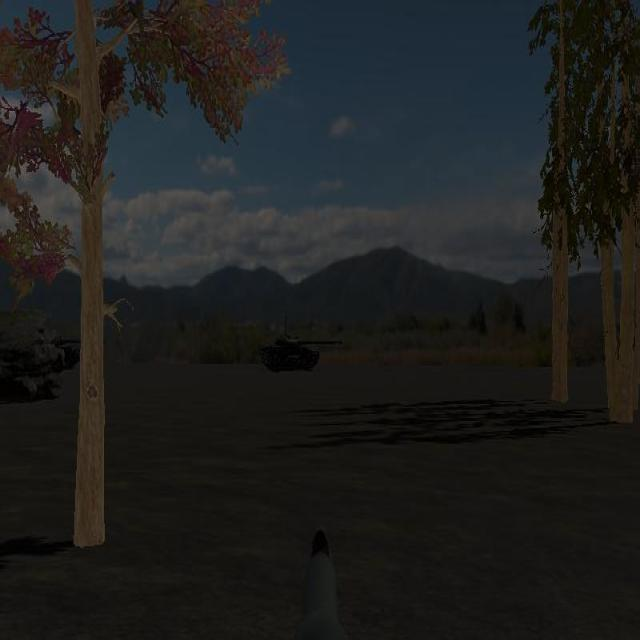Tank: (259, 330, 342, 373)
